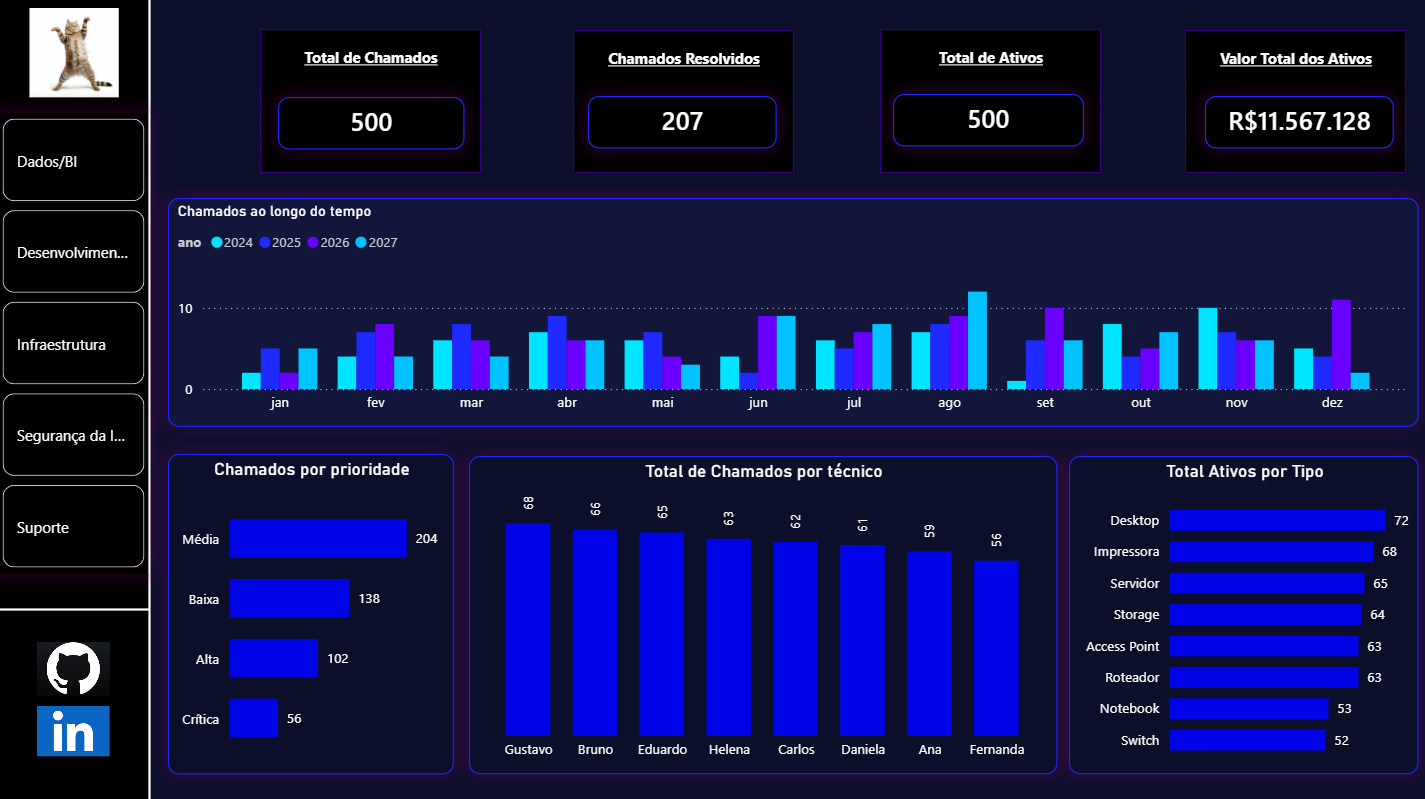

The page's visual inventory and layout, read from the dashboard file:
{"tool":"powerbi","page":{"name":"Visão Geral","canvas":[1280,720],"ordinal":0},"visuals":[{"type":"shape","box":[0,0,137,720],"z":0,"group":"g9"},{"type":"group","id":"g1","title":"Grupo 2","box":[235.5,28.7,197.9,129],"z":0},{"type":"shape","box":[235.5,28.7,197.9,129],"z":0,"group":"g5"},{"type":"shape","box":[790.7,28.7,197.9,129],"z":0,"group":"g6"},{"type":"shape","box":[515.8,29.6,197.9,128.1],"z":0,"group":"g7"},{"type":"shape","box":[1063.9,29.6,197.9,128.1],"z":0,"group":"g8"},{"type":"group","id":"g2","title":"Grupo 2","box":[515.8,29.6,197.9,128.1],"z":1000},{"type":"card","title":"Lucro","fields":{"Values":["Ativos_TI.Total Ativos"]},"box":[802.7,86.7,171,46.9],"z":1000,"group":"g6"},{"type":"card","title":"Lucro","fields":{"Values":["Chamados_TI.Chamados Resolvidos"]},"box":[529.3,89.1,169.3,46.6],"z":1000,"group":"g7"},{"type":"card","title":"Lucro","fields":{"Values":["Ativos_TI.Valor Patrimonio"]},"box":[1082.1,89.1,169.3,46.6],"z":1000,"group":"g8"},{"type":"card","title":"Lucro","fields":{"Values":["CountNonNull(Chamados_TI.ChamadoID)"]},"box":[251.3,89.4,167.5,46.9],"z":1000,"group":"g5"},{"type":"group","id":"g3","title":"Grupo 2","box":[790.7,28.7,197.9,129],"z":2000},{"type":"group","id":"g4","title":"Grupo 2","box":[1063.9,29.6,197.9,128.1],"z":3000},{"type":"barChart","title":"Chamados por prioridade","fields":{"Category":["Chamados_TI.Prioridade"],"Y":["CountNonNull(Chamados_TI.ChamadoID)"]},"box":[153.1,409.3,256.1,286.6],"z":4000},{"type":"group","id":"g5","title":"Grupo 1","box":[235.5,28.7,197.9,129],"z":5000,"group":"g1"},{"type":"group","id":"g6","title":"Grupo 1","box":[790.7,28.7,197.9,129],"z":5000,"group":"g3"},{"type":"group","id":"g7","title":"Grupo 1","box":[515.8,29.6,197.9,128.1],"z":5000,"group":"g2"},{"type":"group","id":"g8","title":"Grupo 1","box":[1063.9,29.6,197.9,128.1],"z":5000,"group":"g4"},{"type":"clusteredBarChart","title":"Total Ativos por Tipo","fields":{"Category":["Ativos_TI.TipoAtivo"],"Y":["CountNonNull(Ativos_TI.AtivoID)"]},"box":[960,411,313.4,284.8],"z":5000},{"type":"textbox","box":[251.6,40.4,166.6,31.6],"z":6000,"group":"g1"},{"type":"textbox","box":[806.8,40.4,166.6,31.6],"z":6000,"group":"g3"},{"type":"textbox","box":[531.9,41.2,166.6,31.3],"z":6000,"group":"g2"},{"type":"textbox","box":[1080,41.2,166.6,31.3],"z":6000,"group":"g4"},{"type":"columnChart","title":"Total de Chamados por técnico","fields":{"Category":["Chamados_TI.TecnicoResponsavel"],"Y":["CountNonNull(Chamados_TI.ChamadoID)"]},"box":[422.7,411,526.6,284.8],"z":6000},{"type":"lineClusteredColumnComboChart","title":"Chamados ao longo do tempo","fields":{"Y":["Chamados_TI.Chamados Abertos"],"Series":["Calendario.ano"],"Category":["Calendario.mes_abrev"]},"box":[153.1,180,1120.3,205.1],"z":7000},{"type":"group","id":"g9","title":"Grupo 3","box":[0,0,145.1,720],"z":8000},{"type":"shape","box":[128.1,0,17,720],"z":8001,"group":"g9"},{"type":"actionButton","box":[35.8,634.9,65.4,44.8],"z":9000},{"type":"actionButton","box":[35.8,577.6,65.4,48.4],"z":10000},{"type":"shape","box":[0,536.4,137,24.2],"z":11000},{"type":"advancedSlicerVisual","fields":{"Values":["Chamados_TI.AreaResponsavel"]},"box":[0,103.9,137,412.8],"z":12000},{"type":"image","box":[8.1,9.9,121.8,79.7],"z":13000}]}

Visuals, with their boxes on the page's 1280x720 design canvas (x1, y1, x2, y2). These are canvas units, not pixel positions in the 1425x799 screenshot, which may show the page scaled, cropped or inside an application window:
shape: {"x1": 0, "y1": 0, "x2": 137, "y2": 720}
"Grupo 2" group: {"x1": 236, "y1": 29, "x2": 433, "y2": 158}
shape: {"x1": 236, "y1": 29, "x2": 433, "y2": 158}
shape: {"x1": 791, "y1": 29, "x2": 989, "y2": 158}
shape: {"x1": 516, "y1": 30, "x2": 714, "y2": 158}
shape: {"x1": 1064, "y1": 30, "x2": 1262, "y2": 158}
"Grupo 2" group: {"x1": 516, "y1": 30, "x2": 714, "y2": 158}
"Lucro" card: {"x1": 803, "y1": 87, "x2": 974, "y2": 134}
"Lucro" card: {"x1": 529, "y1": 89, "x2": 699, "y2": 136}
"Lucro" card: {"x1": 1082, "y1": 89, "x2": 1251, "y2": 136}
"Lucro" card: {"x1": 251, "y1": 89, "x2": 419, "y2": 136}
"Grupo 2" group: {"x1": 791, "y1": 29, "x2": 989, "y2": 158}
"Grupo 2" group: {"x1": 1064, "y1": 30, "x2": 1262, "y2": 158}
"Chamados por prioridade" barChart: {"x1": 153, "y1": 409, "x2": 409, "y2": 696}
"Grupo 1" group: {"x1": 236, "y1": 29, "x2": 433, "y2": 158}
"Grupo 1" group: {"x1": 791, "y1": 29, "x2": 989, "y2": 158}
"Grupo 1" group: {"x1": 516, "y1": 30, "x2": 714, "y2": 158}
"Grupo 1" group: {"x1": 1064, "y1": 30, "x2": 1262, "y2": 158}
"Total Ativos por Tipo" clusteredBarChart: {"x1": 960, "y1": 411, "x2": 1273, "y2": 696}
textbox: {"x1": 252, "y1": 40, "x2": 418, "y2": 72}
textbox: {"x1": 807, "y1": 40, "x2": 973, "y2": 72}
textbox: {"x1": 532, "y1": 41, "x2": 698, "y2": 72}
textbox: {"x1": 1080, "y1": 41, "x2": 1247, "y2": 72}
"Total de Chamados por técnico" columnChart: {"x1": 423, "y1": 411, "x2": 949, "y2": 696}
"Chamados ao longo do tempo" lineClusteredColumnComboChart: {"x1": 153, "y1": 180, "x2": 1273, "y2": 385}
"Grupo 3" group: {"x1": 0, "y1": 0, "x2": 145, "y2": 720}
shape: {"x1": 128, "y1": 0, "x2": 145, "y2": 720}
actionButton: {"x1": 36, "y1": 635, "x2": 101, "y2": 680}
actionButton: {"x1": 36, "y1": 578, "x2": 101, "y2": 626}
shape: {"x1": 0, "y1": 536, "x2": 137, "y2": 561}
advancedSlicerVisual - Chamados_TI.AreaResponsavel: {"x1": 0, "y1": 104, "x2": 137, "y2": 517}
image: {"x1": 8, "y1": 10, "x2": 130, "y2": 90}
